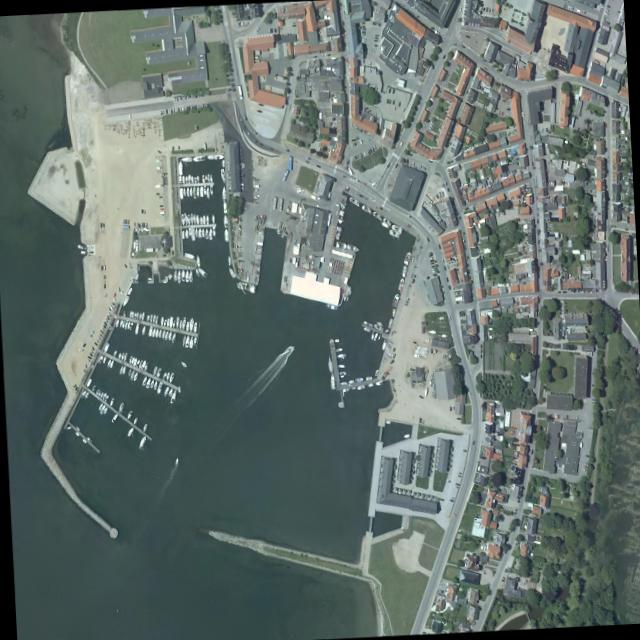large-vehicle: (281, 169, 289, 182), (237, 86, 242, 100), (272, 197, 277, 210), (278, 198, 283, 211), (347, 167, 353, 176), (289, 157, 292, 171)
ship: (235, 280, 256, 293), (194, 266, 207, 279), (137, 435, 147, 451), (390, 223, 402, 235), (333, 225, 342, 241), (391, 293, 400, 309), (348, 196, 360, 207), (346, 244, 359, 254), (339, 195, 347, 210), (403, 251, 411, 266), (326, 356, 333, 373), (155, 382, 163, 396), (169, 389, 176, 405), (219, 168, 226, 184), (371, 211, 382, 221), (373, 323, 384, 333), (337, 210, 344, 225), (227, 266, 235, 279), (121, 295, 129, 308), (191, 155, 204, 163), (388, 229, 398, 239), (360, 204, 370, 214), (335, 241, 346, 250), (397, 278, 404, 292), (117, 402, 125, 414), (329, 374, 335, 390), (162, 385, 169, 398), (325, 304, 338, 311), (380, 339, 387, 352), (381, 217, 391, 226), (177, 161, 183, 176), (102, 342, 109, 354), (222, 215, 228, 229), (194, 254, 200, 268), (110, 413, 118, 423), (188, 317, 193, 333), (379, 221, 389, 229), (144, 377, 150, 390), (401, 265, 407, 278), (179, 157, 192, 163), (96, 354, 103, 365), (126, 427, 133, 438), (125, 410, 132, 421), (183, 253, 194, 260), (126, 286, 133, 297), (221, 185, 226, 200), (168, 372, 174, 384), (140, 359, 146, 371), (170, 332, 176, 344), (179, 360, 187, 369), (387, 318, 393, 330), (85, 378, 92, 388), (143, 361, 149, 372), (140, 325, 146, 336), (80, 389, 86, 400), (213, 155, 224, 161), (129, 369, 134, 382), (184, 335, 189, 348), (223, 229, 228, 242), (222, 201, 227, 214), (190, 228, 195, 241), (276, 230, 285, 237), (152, 365, 157, 377), (155, 368, 161, 378), (149, 378, 154, 390), (141, 375, 146, 387), (132, 372, 138, 382), (168, 316, 173, 328), (163, 330, 168, 342), (147, 326, 152, 338), (134, 323, 139, 335), (141, 423, 147, 433), (108, 397, 114, 407), (99, 405, 105, 415), (205, 185, 209, 200), (181, 317, 185, 331), (175, 315, 179, 329), (183, 212, 187, 226), (208, 227, 212, 241), (167, 387, 172, 398), (152, 380, 157, 391), (165, 371, 170, 382), (118, 364, 123, 375), (160, 329, 165, 340), (150, 327, 155, 338), (192, 322, 197, 333), (97, 402, 103, 411), (132, 417, 138, 426), (102, 406, 108, 415), (103, 394, 109, 403), (354, 377, 363, 383), (181, 334, 185, 347), (188, 336, 192, 349), (180, 213, 184, 226), (188, 270, 192, 283), (184, 270, 188, 283), (180, 270, 184, 283), (172, 269, 176, 282), (204, 227, 208, 240), (195, 186, 199, 199), (132, 357, 137, 367), (122, 352, 127, 362), (157, 329, 162, 339), (154, 328, 159, 338), (336, 354, 346, 359), (373, 332, 378, 342), (200, 174, 205, 184), (83, 392, 89, 400), (356, 385, 364, 391), (402, 433, 410, 439), (375, 321, 383, 327), (362, 327, 370, 333), (374, 381, 382, 387), (186, 213, 190, 225), (209, 185, 213, 197), (199, 186, 203, 198), (161, 372, 166, 381), (114, 319, 119, 328), (121, 366, 126, 375), (128, 322, 133, 331), (109, 360, 114, 369), (101, 392, 106, 401), (91, 384, 96, 393), (427, 330, 436, 335), (185, 321, 189, 332), (178, 319, 182, 330), (184, 228, 188, 239), (192, 214, 196, 225), (202, 185, 206, 196), (85, 437, 92, 443), (365, 376, 372, 382), (177, 270, 180, 284), (159, 316, 163, 326), (167, 331, 171, 341), (154, 315, 158, 325), (151, 314, 155, 324), (101, 356, 106, 364), (338, 372, 346, 377), (334, 348, 342, 353), (341, 388, 349, 393), (227, 256, 231, 266), (391, 308, 395, 318), (370, 331, 374, 341), (187, 227, 191, 237), (201, 215, 205, 225), (182, 187, 186, 197), (179, 188, 182, 201), (121, 320, 125, 329), (138, 360, 142, 369), (135, 359, 139, 368), (127, 369, 131, 378), (130, 356, 134, 365), (128, 355, 132, 364), (120, 352, 124, 361), (123, 321, 127, 330), (171, 320, 175, 329), (165, 318, 169, 327), (148, 314, 152, 323), (145, 314, 149, 323), (106, 359, 110, 368), (192, 187, 195, 199), (178, 175, 182, 184), (181, 175, 185, 184), (112, 350, 117, 357), (174, 458, 179, 465), (337, 364, 344, 369), (366, 383, 373, 388), (206, 155, 213, 160), (201, 143, 206, 150), (194, 227, 197, 238), (195, 214, 198, 225), (189, 214, 192, 225), (212, 226, 215, 237), (118, 320, 122, 328), (126, 322, 130, 330), (128, 310, 132, 318), (130, 311, 134, 319), (154, 184, 162, 188), (412, 354, 420, 358), (374, 369, 378, 377), (76, 245, 82, 250), (81, 439, 86, 445), (75, 426, 80, 432), (74, 431, 79, 437), (201, 228, 204, 238), (181, 230, 184, 240), (187, 174, 190, 184), (189, 187, 192, 197), (185, 187, 188, 197), (177, 386, 181, 393), (162, 319, 166, 326), (117, 353, 121, 360), (99, 392, 103, 399), (97, 390, 101, 397), (95, 388, 99, 395), (347, 380, 354, 384), (440, 334, 447, 338), (141, 312, 144, 321), (138, 312, 141, 321), (205, 215, 208, 224), (199, 216, 202, 225), (193, 337, 196, 346), (221, 159, 224, 168), (209, 174, 212, 183), (206, 174, 209, 183), (204, 174, 207, 183), (211, 215, 214, 224), (196, 175, 199, 184), (438, 316, 443, 321), (135, 312, 138, 320), (133, 312, 136, 320), (340, 382, 346, 386), (387, 353, 393, 357), (190, 176, 193, 184), (184, 176, 187, 184), (193, 177, 196, 184), (362, 321, 367, 325), (155, 167, 161, 170), (155, 160, 161, 163), (334, 339, 338, 343), (384, 329, 388, 333), (80, 251, 85, 254), (66, 427, 71, 430), (385, 421, 390, 424), (159, 212, 164, 214)
small-vehicle: (389, 359, 394, 365), (464, 34, 470, 39), (418, 395, 423, 400), (304, 160, 309, 165), (252, 131, 257, 136), (500, 99, 506, 103), (358, 139, 362, 145), (398, 141, 402, 147), (243, 115, 247, 121), (246, 131, 250, 137), (615, 10, 620, 14), (576, 9, 581, 13), (593, 59, 598, 63), (603, 12, 608, 16), (452, 514, 456, 519), (505, 566, 510, 570), (481, 570, 485, 575), (514, 297, 518, 302), (471, 206, 475, 211), (96, 336, 100, 341), (110, 302, 115, 306), (107, 307, 111, 312), (101, 327, 105, 332), (90, 346, 94, 351), (88, 352, 92, 357), (406, 214, 411, 218), (362, 152, 366, 157), (354, 178, 359, 182), (341, 175, 346, 179), (460, 44, 464, 49), (441, 54, 445, 59), (429, 122, 434, 126), (427, 160, 432, 164), (428, 98, 433, 102), (354, 191, 358, 196), (589, 109, 592, 115), (440, 258, 443, 264), (448, 285, 451, 291), (102, 265, 105, 271), (411, 279, 414, 285), (99, 222, 102, 228), (360, 41, 366, 44), (411, 161, 414, 167), (127, 114, 130, 120), (240, 118, 243, 124), (481, 58, 485, 62), (429, 256, 433, 260), (464, 207, 468, 211), (95, 339, 99, 343), (102, 325, 106, 329), (99, 330, 103, 334), (93, 342, 97, 346), (87, 356, 91, 360), (86, 359, 90, 363), (72, 384, 76, 388), (412, 340, 416, 344), (406, 224, 410, 228), (379, 207, 383, 211), (456, 64, 460, 68), (454, 69, 458, 73), (429, 124, 433, 128), (428, 127, 432, 131), (156, 150, 160, 154), (583, 462, 587, 466), (345, 187, 349, 191), (255, 28, 259, 32), (252, 139, 256, 143), (581, 11, 586, 14), (604, 9, 609, 12), (545, 169, 548, 174), (500, 112, 503, 117), (479, 349, 482, 354), (445, 277, 448, 282), (443, 266, 446, 271), (453, 486, 458, 489), (496, 212, 499, 217), (499, 212, 502, 217), (89, 349, 92, 354), (90, 330, 93, 335), (107, 312, 110, 317), (103, 321, 106, 326), (82, 369, 85, 374), (82, 343, 85, 348), (78, 349, 83, 352), (117, 287, 120, 292), (88, 251, 93, 254), (392, 354, 395, 359), (253, 185, 258, 188), (363, 107, 368, 110), (291, 24, 296, 27), (373, 145, 376, 150), (371, 148, 374, 153), (361, 182, 366, 185), (353, 155, 356, 160), (465, 90, 468, 95), (458, 7, 461, 12), (431, 64, 434, 69), (405, 159, 408, 164), (394, 163, 397, 168), (386, 163, 389, 168), (399, 120, 402, 125), (397, 102, 400, 107), (391, 100, 394, 105), (385, 99, 388, 104), (169, 109, 172, 114), (179, 95, 182, 100), (175, 97, 178, 102), (256, 110, 261, 113), (315, 165, 320, 168), (305, 157, 310, 160), (284, 149, 289, 152), (258, 104, 263, 107), (189, 106, 192, 111), (287, 94, 289, 100), (74, 387, 77, 391), (606, 5, 610, 8), (540, 111, 544, 114), (506, 108, 510, 111), (520, 112, 522, 118), (485, 7, 487, 13), (472, 440, 474, 446), (430, 348, 432, 354), (431, 270, 435, 273), (431, 268, 435, 271), (455, 483, 459, 486), (449, 499, 453, 502), (500, 579, 504, 582), (423, 626, 427, 629), (430, 265, 434, 268), (429, 262, 433, 265), (429, 259, 433, 262), (502, 211, 505, 215), (537, 239, 539, 245), (428, 254, 432, 257), (444, 182, 447, 186), (446, 188, 449, 192), (470, 285, 472, 291), (437, 233, 441, 236), (426, 238, 429, 242), (419, 418, 421, 424), (106, 316, 109, 320), (103, 294, 106, 298), (88, 246, 92, 249), (104, 319, 107, 323), (100, 265, 102, 271), (113, 292, 115, 298), (98, 334, 102, 337), (84, 365, 87, 369), (405, 298, 409, 301), (404, 301, 408, 304), (403, 304, 407, 307), (268, 147, 272, 150), (259, 143, 263, 146), (254, 197, 258, 200), (123, 264, 126, 268), (124, 219, 126, 225), (549, 414, 552, 418), (483, 68, 487, 71), (360, 29, 366, 31), (361, 38, 365, 41), (368, 67, 370, 73), (373, 46, 377, 49), (368, 149, 371, 153), (367, 150, 370, 154), (359, 154, 362, 158), (351, 139, 355, 142), (388, 99, 390, 105), (388, 88, 390, 94), (375, 22, 378, 26), (358, 194, 362, 197), (362, 197, 366, 200), (344, 189, 348, 192), (176, 108, 179, 112), (186, 93, 188, 99), (159, 110, 161, 116), (585, 455, 589, 458), (582, 469, 586, 472), (342, 33, 344, 39), (326, 54, 330, 57), (321, 54, 325, 57), (270, 28, 272, 34), (242, 126, 245, 130), (200, 104, 202, 110), (545, 143, 547, 148), (497, 110, 499, 115), (490, 8, 492, 13), (482, 7, 484, 12), (480, 5, 482, 10), (448, 316, 450, 321), (449, 407, 451, 412), (469, 626, 474, 628), (554, 414, 556, 419), (558, 343, 560, 348), (549, 343, 551, 348), (547, 342, 549, 347), (561, 291, 566, 293), (536, 219, 538, 224), (535, 196, 537, 201), (467, 269, 469, 274), (438, 244, 440, 249), (421, 420, 423, 425), (103, 284, 105, 289), (142, 223, 144, 228), (140, 223, 142, 228), (102, 223, 104, 228), (534, 420, 536, 425), (341, 21, 343, 26), (360, 31, 365, 33), (364, 78, 366, 83), (274, 28, 276, 33), (317, 142, 319, 147), (346, 160, 348, 165), (373, 37, 378, 39), (418, 165, 420, 170), (374, 21, 376, 26), (393, 106, 395, 111), (392, 89, 394, 94), (378, 22, 380, 27), (165, 109, 167, 114), (173, 97, 175, 102), (161, 110, 163, 115), (171, 146, 173, 151), (185, 107, 187, 112), (158, 205, 163, 207), (565, 415, 567, 420), (181, 107, 183, 112), (190, 93, 192, 98), (267, 29, 269, 34), (207, 103, 209, 108), (204, 104, 206, 109), (202, 104, 204, 109), (198, 105, 200, 110), (196, 105, 198, 110), (194, 106, 196, 111), (458, 472, 461, 475), (440, 499, 443, 502), (545, 128, 547, 132), (531, 162, 533, 166), (480, 355, 482, 359), (462, 450, 466, 452), (456, 418, 460, 420), (457, 476, 461, 478), (446, 480, 450, 482), (450, 498, 454, 500), (556, 344, 558, 348), (466, 263, 468, 267), (468, 276, 470, 280), (103, 275, 105, 279), (240, 188, 244, 190), (392, 348, 394, 352), (253, 182, 257, 184), (144, 223, 146, 227), (171, 251, 173, 255), (133, 223, 135, 227), (126, 220, 128, 224), (121, 220, 123, 224), (291, 22, 295, 24), (361, 34, 365, 36), (557, 415, 559, 419), (368, 62, 370, 66), (373, 40, 377, 42), (278, 28, 282, 30), (374, 34, 378, 36), (452, 44, 456, 46), (155, 193, 159, 195), (172, 109, 174, 113), (177, 146, 179, 150), (158, 196, 162, 198), (159, 209, 163, 211), (159, 214, 163, 216), (624, 229, 628, 231), (583, 466, 587, 468), (312, 56, 316, 58), (503, 0, 506, 2), (531, 449, 532, 455), (554, 345, 556, 348), (557, 291, 560, 293), (345, 59, 347, 62), (541, 127, 542, 132), (480, 344, 481, 349), (536, 212, 537, 217), (179, 107, 180, 112), (188, 106, 189, 111), (192, 106, 193, 111), (452, 406, 453, 410), (552, 344, 553, 348), (537, 321, 538, 325), (143, 210, 144, 214), (141, 210, 142, 214), (138, 224, 139, 228), (136, 223, 137, 227), (373, 45, 377, 46), (372, 21, 373, 25), (576, 417, 577, 421), (488, 9, 489, 12), (502, 0, 503, 1)
storage-tank: (529, 553, 533, 557), (331, 68, 334, 72), (327, 67, 330, 71), (325, 67, 328, 71), (523, 525, 526, 529)
